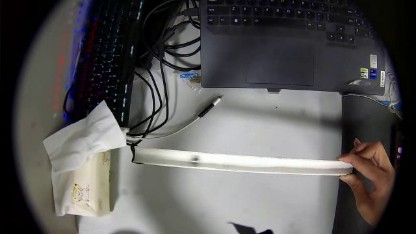gangzhu: (186, 152, 202, 166)
